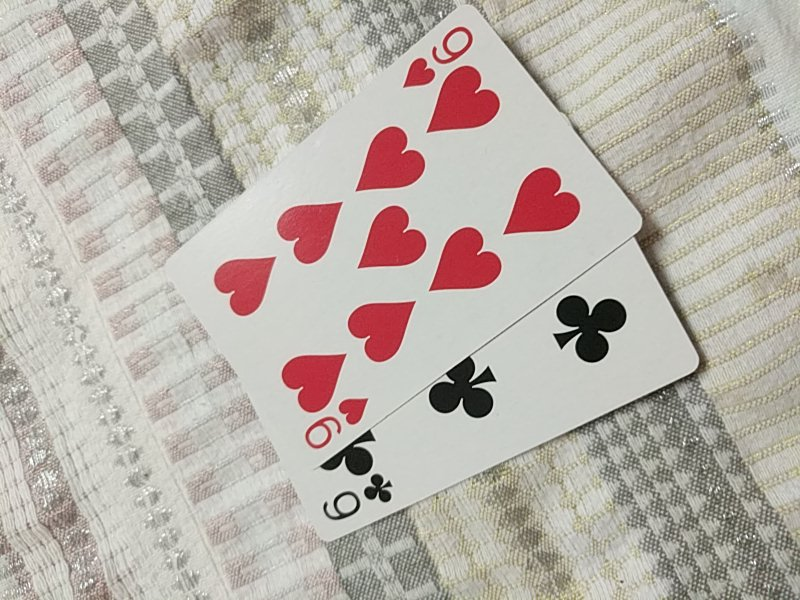Clubs: (250, 236, 702, 543)
Hearts: (164, 4, 643, 475)
